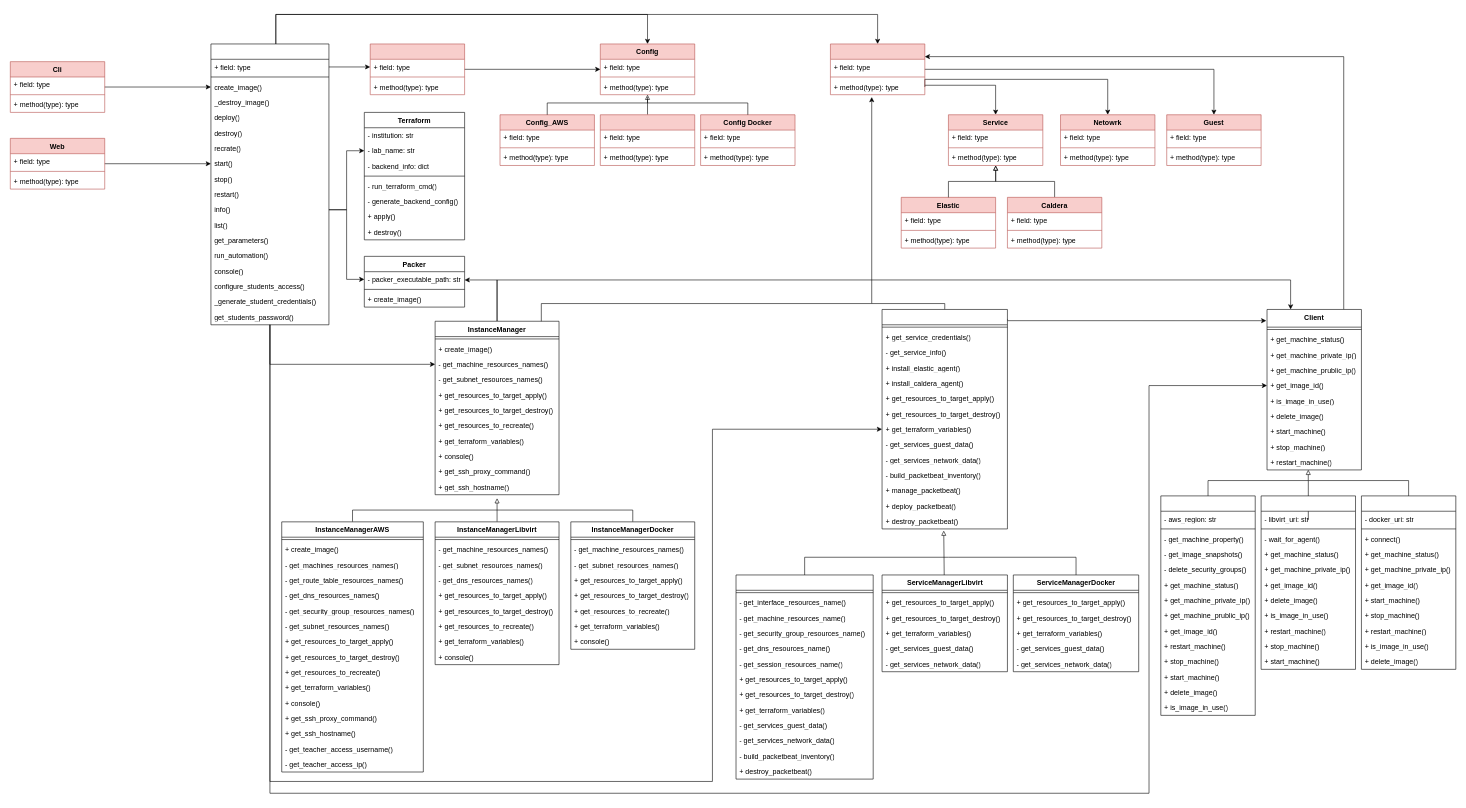
Some shapes in this 1466 by 808 pixel diagram are drawn without their labels. The box of each missing label's shape, as (x1, y1, x2, y2) in pixels:
Ansible: (370, 43, 465, 95)
ClientAWS: (1160, 495, 1255, 715)
ClientDocker: (1361, 495, 1456, 669)
ClientLibvirt: (1261, 495, 1356, 669)
Config_Libvirt: (600, 114, 695, 165)
Core: (210, 43, 329, 325)
Description: (830, 43, 925, 95)
ServiceManager: (881, 309, 1007, 529)
ServiceManagerAWS: (735, 574, 873, 779)
